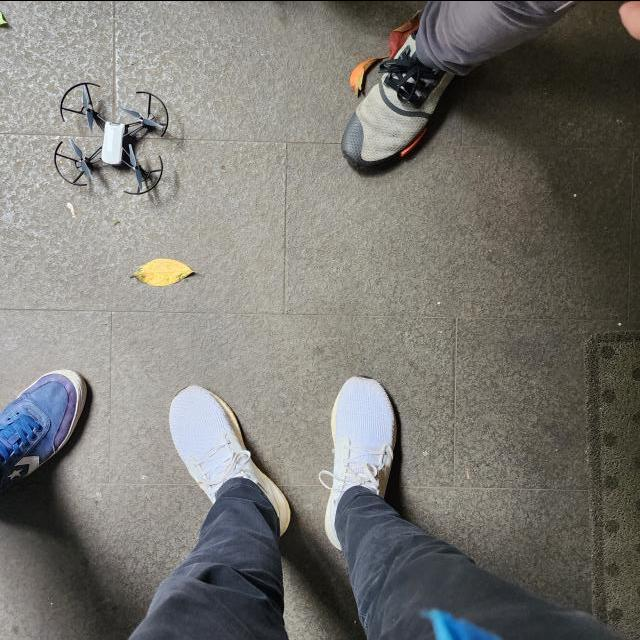drone: (53, 82, 168, 195)
